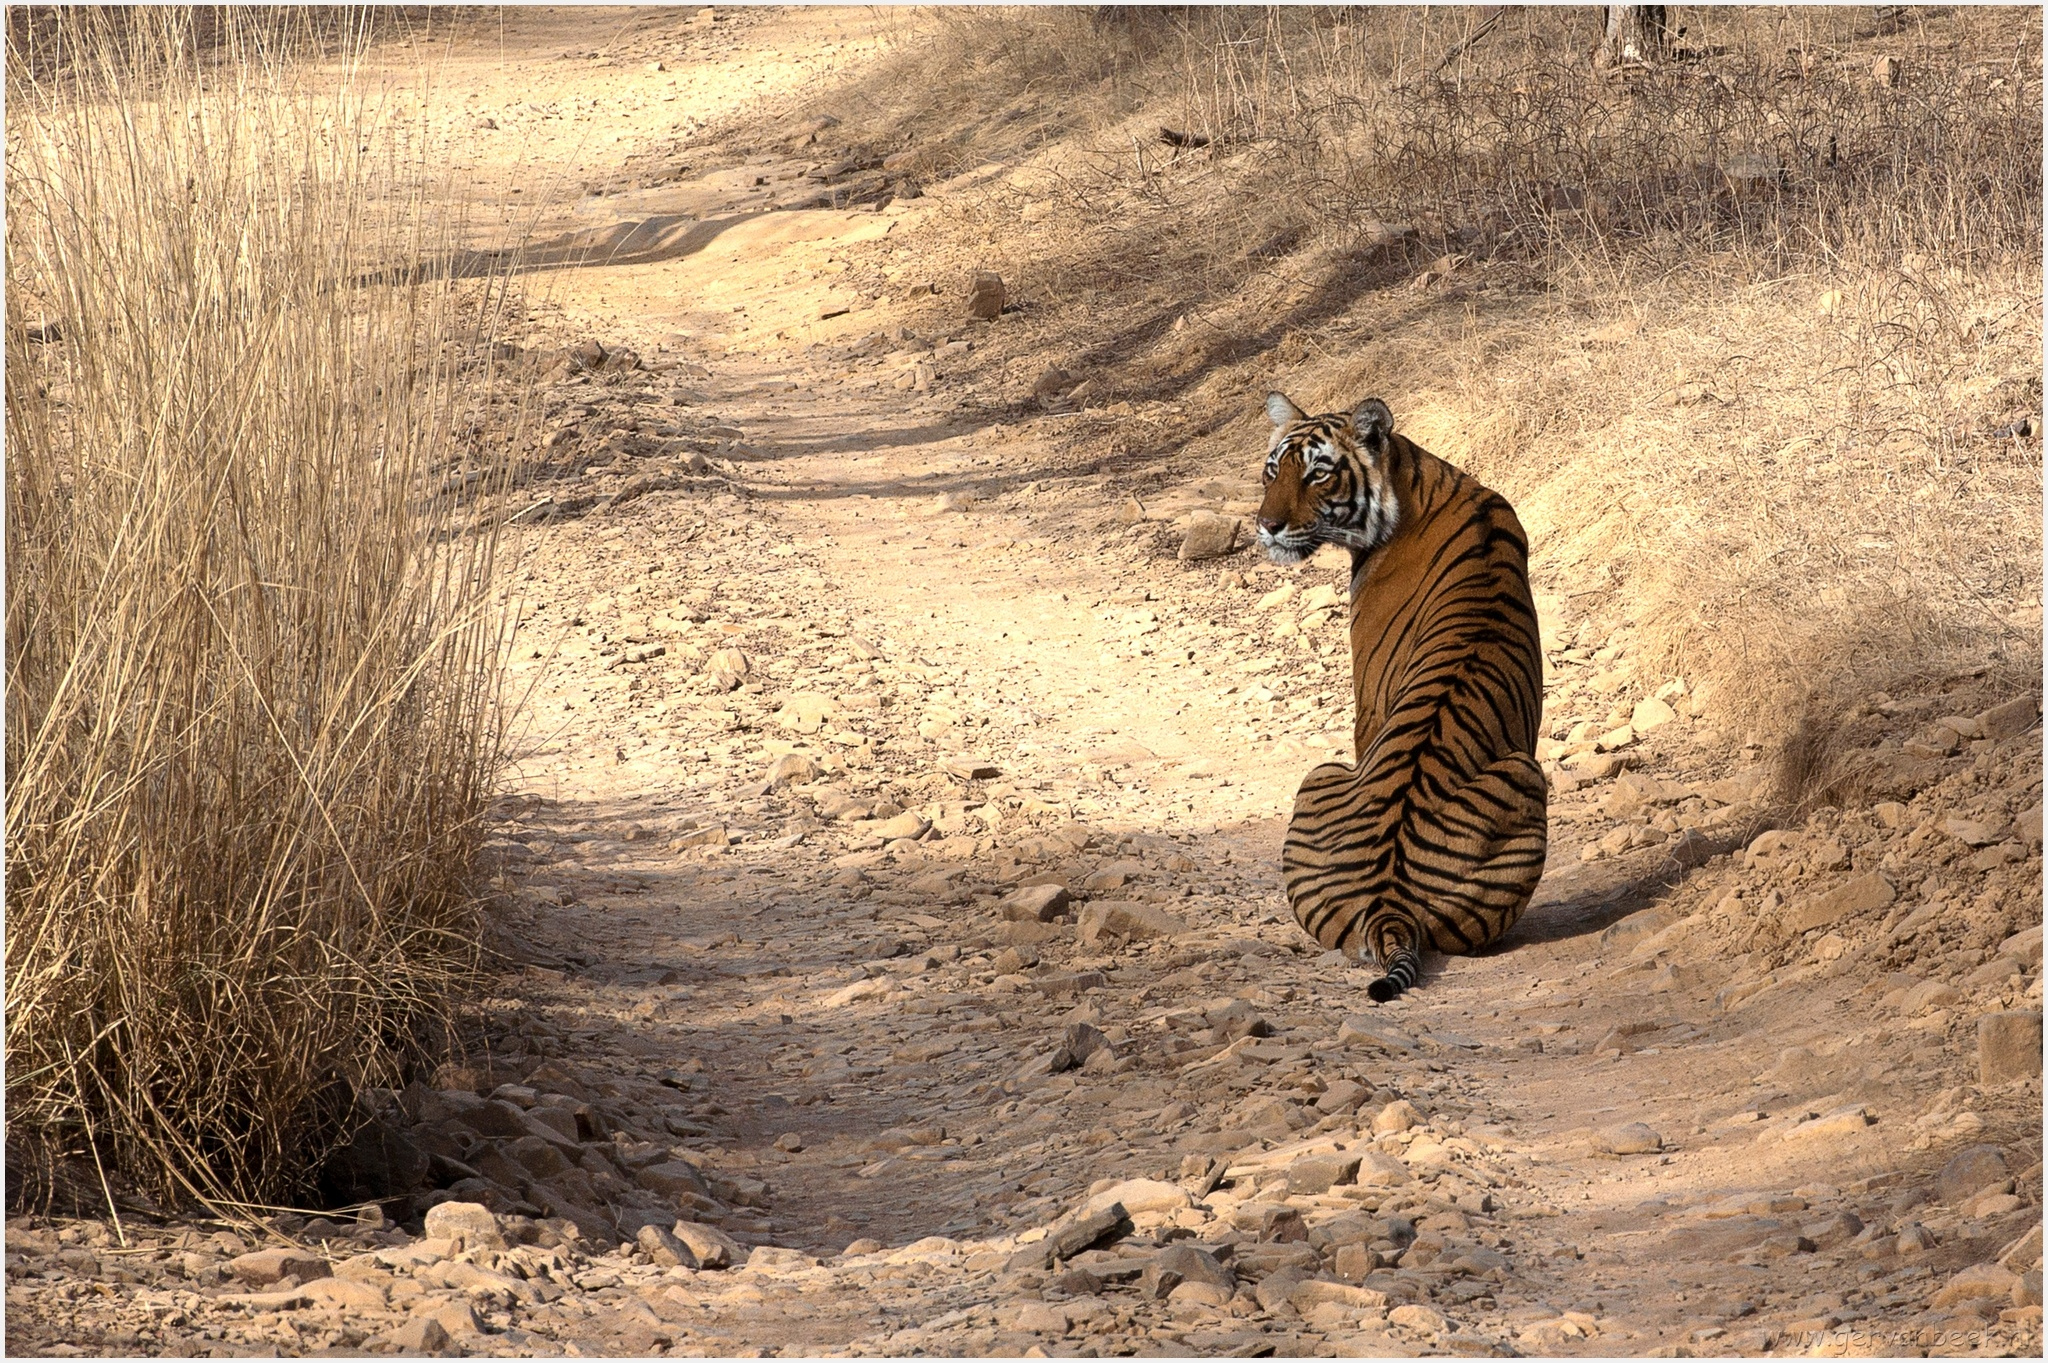tiger: (1215, 380, 1587, 1045)
